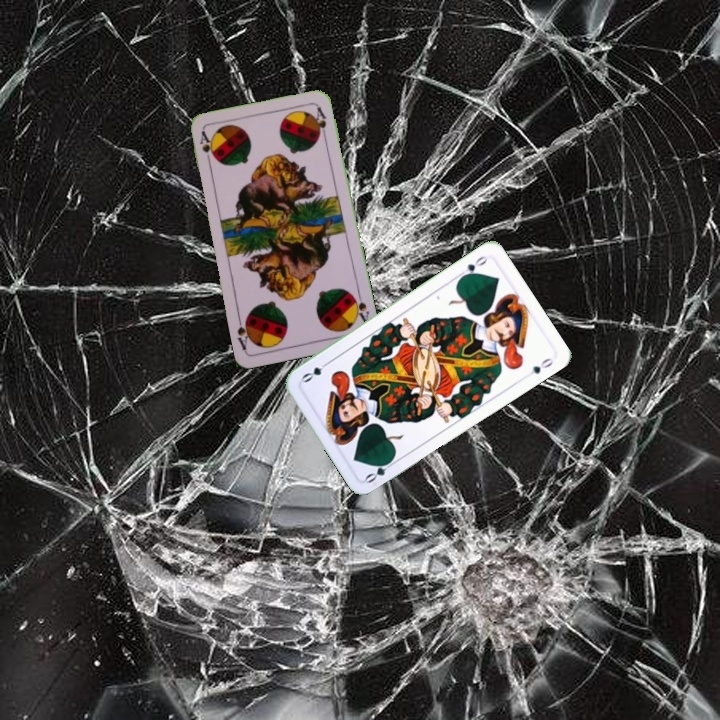GO: (361, 454, 399, 486), (454, 251, 490, 282)
SA: (348, 288, 371, 328), (196, 127, 217, 168)
